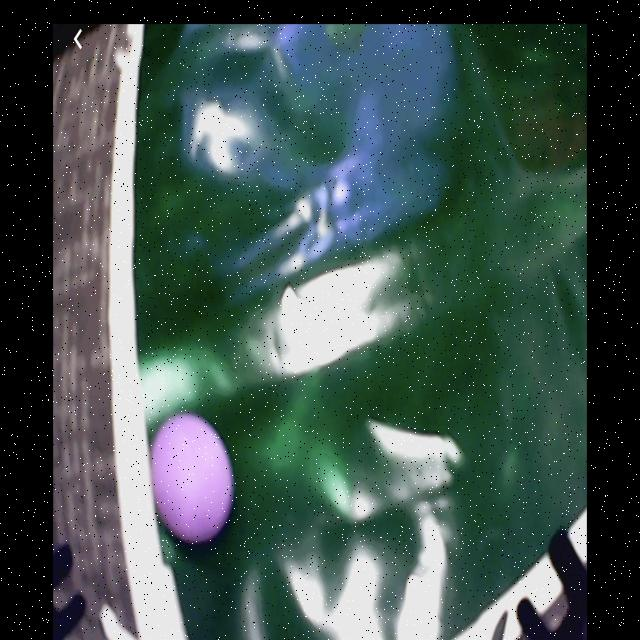ball: (144, 412, 235, 540)
